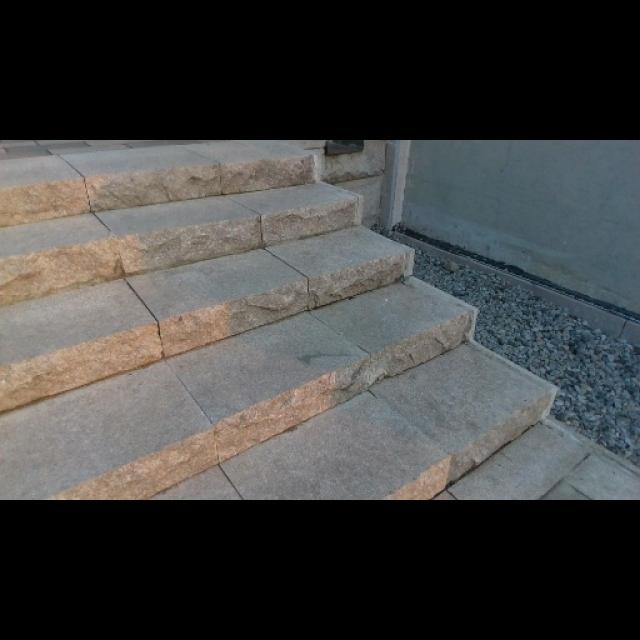Stairs: (0, 139, 638, 500)
